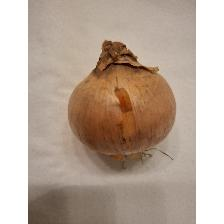Zwiebel: (64, 39, 179, 167)
